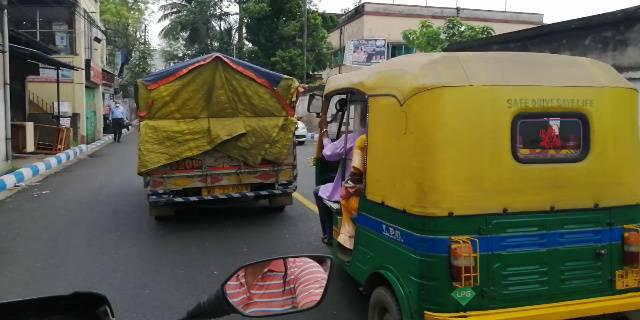Autorickshaw: (313, 50, 640, 320)
Minitruck: (132, 52, 304, 218)
